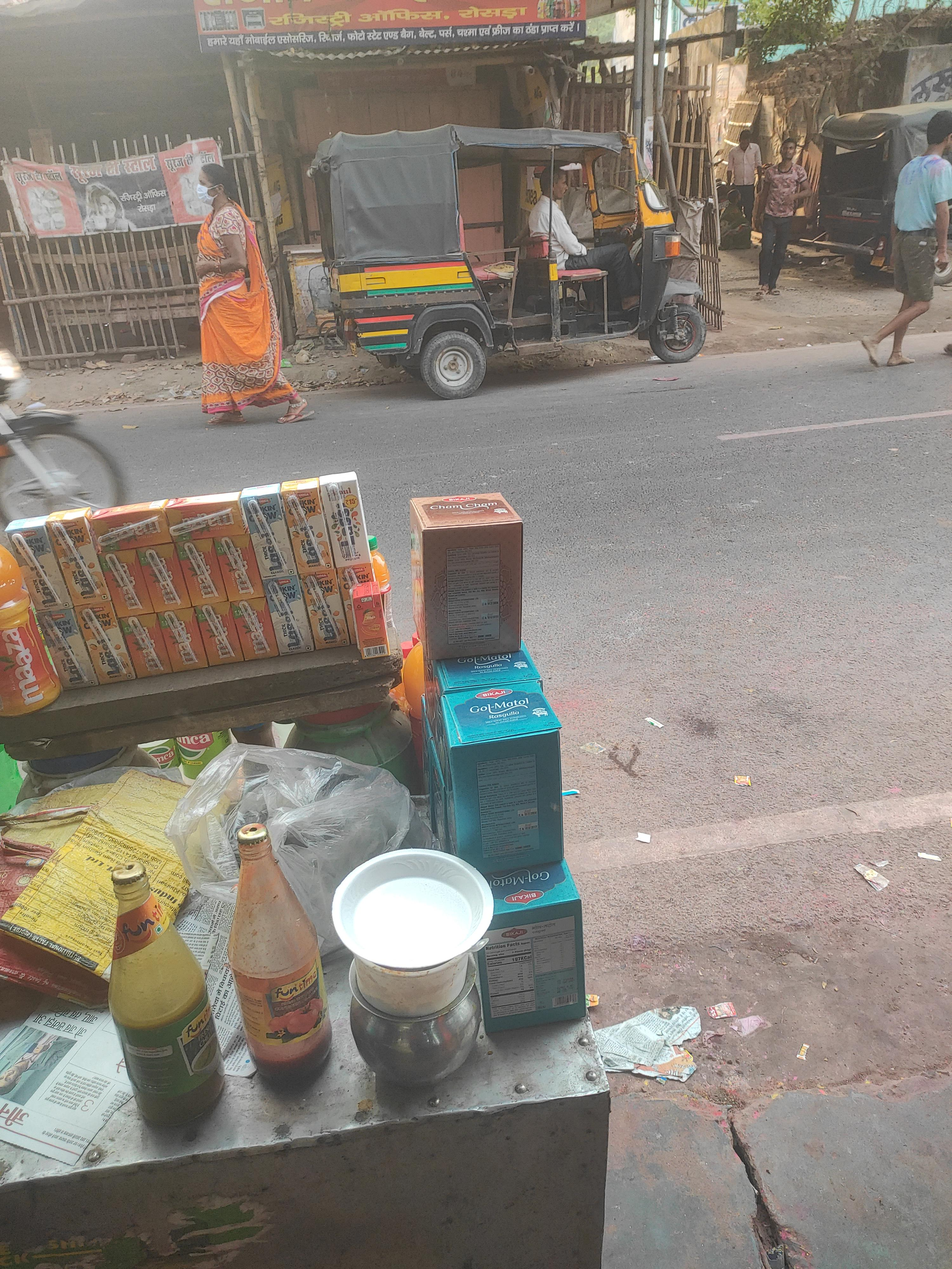non-ambulance: (277, 34, 743, 408)
